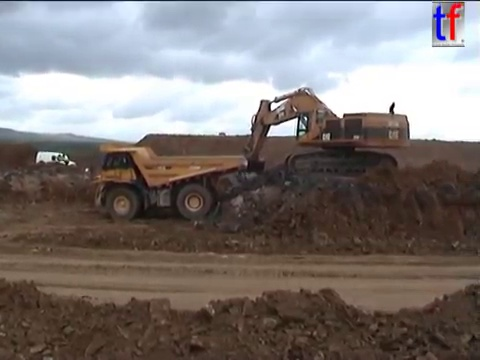excavator: (235, 85, 412, 187)
truck: (83, 141, 247, 221)
worker: (61, 151, 71, 170), (55, 151, 63, 169)
